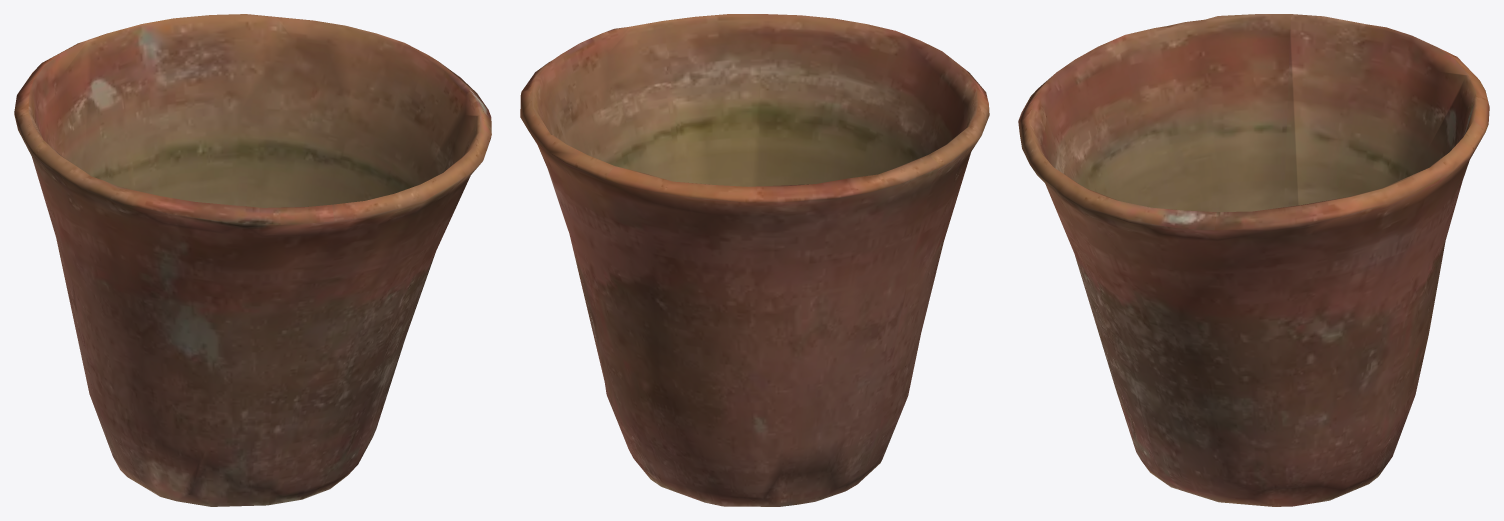
The model's file is planter_pot_clay.glb.
3 views of the same model, side by side, from view 1: azimuth 30°, elevation 25°; view 2: azimuth 150°, elevation 25°; view 3: azimuth 270°, elevation 25° (orthographic).
Parts seen in each view (by area): view 1: planter_pot_clay; view 2: planter_pot_clay; view 3: planter_pot_clay.
Boxes of the visible parts, x1,y1,x2,y2 form: planter_pot_clay: (14, 14, 491, 506); planter_pot_clay: (520, 14, 989, 506); planter_pot_clay: (1018, 14, 1489, 506).
Size of the model in its own units: 0.2656 by 0.2218 by 0.2635.
1 material, 1 textured.
